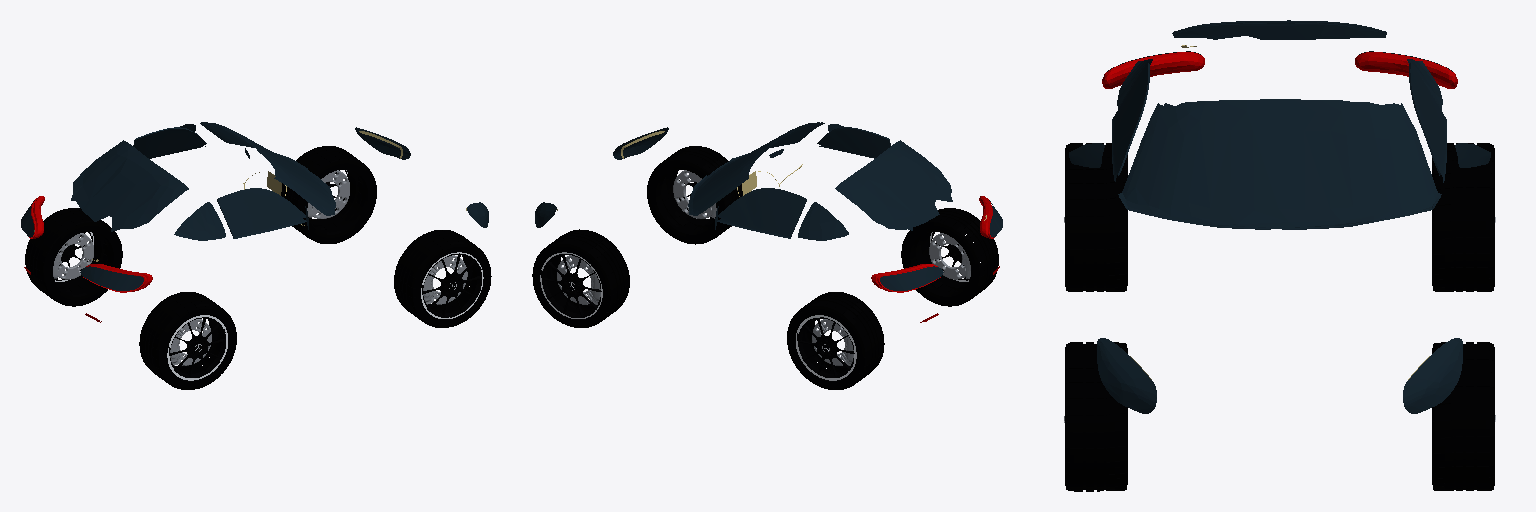
robot.urdf — ctrl_zero_child_car:
<?xml version="1.0" encoding="utf-8"?>
<robot name="ctrl_zero_child_car">
  <mujoco>
    <compiler discardvisual="false" />
  </mujoco>
  <material name="body_white">
    <color rgba="0.92 0.94 0.97 1" />
  </material>
  <material name="tire_black">
    <color rgba="0.035 0.035 0.04 1" />
  </material>
  <material name="vehicle_mesh_material_black">
    <color rgba="0.025 0.025 0.03 1" />
  </material>
  <material name="vehicle_mesh_material_chrome">
    <color rgba="0.78 0.8 0.83 1" />
  </material>
  <material name="vehicle_mesh_material_glass">
    <color rgba="0.1 0.16 0.2 0.62" />
  </material>
  <material name="vehicle_mesh_material_light">
    <color rgba="0.78 0.72 0.5 1" />
  </material>
  <material name="vehicle_mesh_material_metal">
    <color rgba="0.55 0.57 0.6 1" />
  </material>
  <material name="vehicle_mesh_material_red">
    <color rgba="0.72 0.015 0.02 1" />
  </material>
  <material name="vehicle_mesh_material_tire">
    <color rgba="0.018 0.018 0.022 1" />
  </material>
  <material name="vehicle_mesh_material_white">
    <color rgba="0.92 0.94 0.97 1" />
  </material>
  <link name="rear_axle_frame">
    <visual name="chassis_mesh_0">
      <origin xyz="0 0 0" rpy="0 0 0" />
      <geometry>
        <mesh filename="vehicle_mesh/body_black.obj" />
      </geometry>
      <material name="vehicle_mesh_material_black" />
    </visual>
    <visual name="chassis_mesh_1">
      <origin xyz="0 0 0" rpy="0 0 0" />
      <geometry>
        <mesh filename="vehicle_mesh/body_chrome.obj" />
      </geometry>
      <material name="vehicle_mesh_material_chrome" />
    </visual>
    <visual name="chassis_mesh_2">
      <origin xyz="0 0 0" rpy="0 0 0" />
      <geometry>
        <mesh filename="vehicle_mesh/body_glass.obj" />
      </geometry>
      <material name="vehicle_mesh_material_glass" />
    </visual>
    <visual name="chassis_mesh_3">
      <origin xyz="0 0 0" rpy="0 0 0" />
      <geometry>
        <mesh filename="vehicle_mesh/body_light.obj" />
      </geometry>
      <material name="vehicle_mesh_material_light" />
    </visual>
    <visual name="chassis_mesh_4">
      <origin xyz="0 0 0" rpy="0 0 0" />
      <geometry>
        <mesh filename="vehicle_mesh/body_metal.obj" />
      </geometry>
      <material name="vehicle_mesh_material_metal" />
    </visual>
    <visual name="chassis_mesh_5">
      <origin xyz="0 0 0" rpy="0 0 0" />
      <geometry>
        <mesh filename="vehicle_mesh/body_red.obj" />
      </geometry>
      <material name="vehicle_mesh_material_red" />
    </visual>
    <visual name="chassis_mesh_6">
      <origin xyz="0 0 0" rpy="0 0 0" />
      <geometry>
        <mesh filename="vehicle_mesh/body_white.obj" />
      </geometry>
      <material name="vehicle_mesh_material_white" />
    </visual>
    <visual name="front_left_wheel_visual_mesh_0">
      <origin xyz="0.602986658 0.235 0.095624753" rpy="0 0 0" />
      <geometry>
        <mesh filename="vehicle_mesh/front_left_wheel_black.obj" />
      </geometry>
      <material name="vehicle_mesh_material_black" />
    </visual>
    <visual name="front_left_wheel_visual_mesh_1">
      <origin xyz="0.602986658 0.235 0.095624753" rpy="0 0 0" />
      <geometry>
        <mesh filename="vehicle_mesh/front_left_wheel_chrome.obj" />
      </geometry>
      <material name="vehicle_mesh_material_chrome" />
    </visual>
    <visual name="front_left_wheel_visual_mesh_2">
      <origin xyz="0.602986658 0.235 0.095624753" rpy="0 0 0" />
      <geometry>
        <mesh filename="vehicle_mesh/front_left_wheel_metal.obj" />
      </geometry>
      <material name="vehicle_mesh_material_metal" />
    </visual>
    <visual name="front_left_wheel_visual_mesh_3">
      <origin xyz="0.602986658 0.235 0.095624753" rpy="0 0 0" />
      <geometry>
        <mesh filename="vehicle_mesh/front_left_wheel_tire.obj" />
      </geometry>
      <material name="vehicle_mesh_material_tire" />
    </visual>
    <visual name="front_left_wheel_visual_mesh_4">
      <origin xyz="0.602986658 0.235 0.095624753" rpy="0 0 0" />
      <geometry>
        <mesh filename="vehicle_mesh/front_left_wheel_white.obj" />
      </geometry>
      <material name="vehicle_mesh_material_white" />
    </visual>
    <visual name="front_right_wheel_visual_mesh_0">
      <origin xyz="0.602986658 -0.235 0.095624753" rpy="0 0 0" />
      <geometry>
        <mesh filename="vehicle_mesh/front_right_wheel_black.obj" />
      </geometry>
      <material name="vehicle_mesh_material_black" />
    </visual>
    <visual name="front_right_wheel_visual_mesh_1">
      <origin xyz="0.602986658 -0.235 0.095624753" rpy="0 0 0" />
      <geometry>
        <mesh filename="vehicle_mesh/front_right_wheel_chrome.obj" />
      </geometry>
      <material name="vehicle_mesh_material_chrome" />
    </visual>
    <visual name="front_right_wheel_visual_mesh_2">
      <origin xyz="0.602986658 -0.235 0.095624753" rpy="0 0 0" />
      <geometry>
        <mesh filename="vehicle_mesh/front_right_wheel_metal.obj" />
      </geometry>
      <material name="vehicle_mesh_material_metal" />
    </visual>
    <visual name="front_right_wheel_visual_mesh_3">
      <origin xyz="0.602986658 -0.235 0.095624753" rpy="0 0 0" />
      <geometry>
        <mesh filename="vehicle_mesh/front_right_wheel_tire.obj" />
      </geometry>
      <material name="vehicle_mesh_material_tire" />
    </visual>
    <visual name="front_right_wheel_visual_mesh_4">
      <origin xyz="0.602986658 -0.235 0.095624753" rpy="0 0 0" />
      <geometry>
        <mesh filename="vehicle_mesh/front_right_wheel_white.obj" />
      </geometry>
      <material name="vehicle_mesh_material_white" />
    </visual>
    <visual name="rear_left_wheel_visual_mesh_0">
      <origin xyz="0 0.235 0.095624753" rpy="0 0 0" />
      <geometry>
        <mesh filename="vehicle_mesh/rear_left_wheel_black.obj" />
      </geometry>
      <material name="vehicle_mesh_material_black" />
    </visual>
    <visual name="rear_left_wheel_visual_mesh_1">
      <origin xyz="0 0.235 0.095624753" rpy="0 0 0" />
      <geometry>
        <mesh filename="vehicle_mesh/rear_left_wheel_chrome.obj" />
      </geometry>
      <material name="vehicle_mesh_material_chrome" />
    </visual>
    <visual name="rear_left_wheel_visual_mesh_2">
      <origin xyz="0 0.235 0.095624753" rpy="0 0 0" />
      <geometry>
        <mesh filename="vehicle_mesh/rear_left_wheel_metal.obj" />
      </geometry>
      <material name="vehicle_mesh_material_metal" />
    </visual>
    <visual name="rear_left_wheel_visual_mesh_3">
      <origin xyz="0 0.235 0.095624753" rpy="0 0 0" />
      <geometry>
        <mesh filename="vehicle_mesh/rear_left_wheel_tire.obj" />
      </geometry>
      <material name="vehicle_mesh_material_tire" />
    </visual>
    <visual name="rear_left_wheel_visual_mesh_4">
      <origin xyz="0 0.235 0.095624753" rpy="0 0 0" />
      <geometry>
        <mesh filename="vehicle_mesh/rear_left_wheel_white.obj" />
      </geometry>
      <material name="vehicle_mesh_material_white" />
    </visual>
    <visual name="rear_right_wheel_visual_mesh_0">
      <origin xyz="0 -0.235 0.095624753" rpy="0 0 0" />
      <geometry>
        <mesh filename="vehicle_mesh/rear_right_wheel_black.obj" />
      </geometry>
      <material name="vehicle_mesh_material_black" />
    </visual>
    <visual name="rear_right_wheel_visual_mesh_1">
      <origin xyz="0 -0.235 0.095624753" rpy="0 0 0" />
      <geometry>
        <mesh filename="vehicle_mesh/rear_right_wheel_chrome.obj" />
      </geometry>
      <material name="vehicle_mesh_material_chrome" />
    </visual>
    <visual name="rear_right_wheel_visual_mesh_2">
      <origin xyz="0 -0.235 0.095624753" rpy="0 0 0" />
      <geometry>
        <mesh filename="vehicle_mesh/rear_right_wheel_metal.obj" />
      </geometry>
      <material name="vehicle_mesh_material_metal" />
    </visual>
    <visual name="rear_right_wheel_visual_mesh_3">
      <origin xyz="0 -0.235 0.095624753" rpy="0 0 0" />
      <geometry>
        <mesh filename="vehicle_mesh/rear_right_wheel_tire.obj" />
      </geometry>
      <material name="vehicle_mesh_material_tire" />
    </visual>
    <visual name="rear_right_wheel_visual_mesh_4">
      <origin xyz="0 -0.235 0.095624753" rpy="0 0 0" />
      <geometry>
        <mesh filename="vehicle_mesh/rear_right_wheel_white.obj" />
      </geometry>
      <material name="vehicle_mesh_material_white" />
    </visual>
  </link>
</robot>

--- Render facts (derived) ---
3 views of the same robot in one strip: view 1: azimuth 30°, elevation 25°; view 2: azimuth 150°, elevation 25°; view 3: azimuth 270°, elevation 25° (orthographic).
Robot: ctrl_zero_child_car — 1 links, 0 joints (none); root link rear_axle_frame; default pose: all joints at 0.
Visible links, largest first — view 1: rear_axle_frame; view 2: rear_axle_frame; view 3: rear_axle_frame.
Boxes of the visible links, <box> form: rear_axle_frame: <box>21,122,491,389</box>; rear_axle_frame: <box>532,122,1002,389</box>; rear_axle_frame: <box>1064,20,1495,491</box>.
Bounding box of the posed robot: 0.9339 × 0.5522 × 0.3963 m (x, y, z).
23 mesh visuals loaded from 27 distinct referenced files (23 OBJ); not drawn: 4 (reference not matched to a file when rendering).
